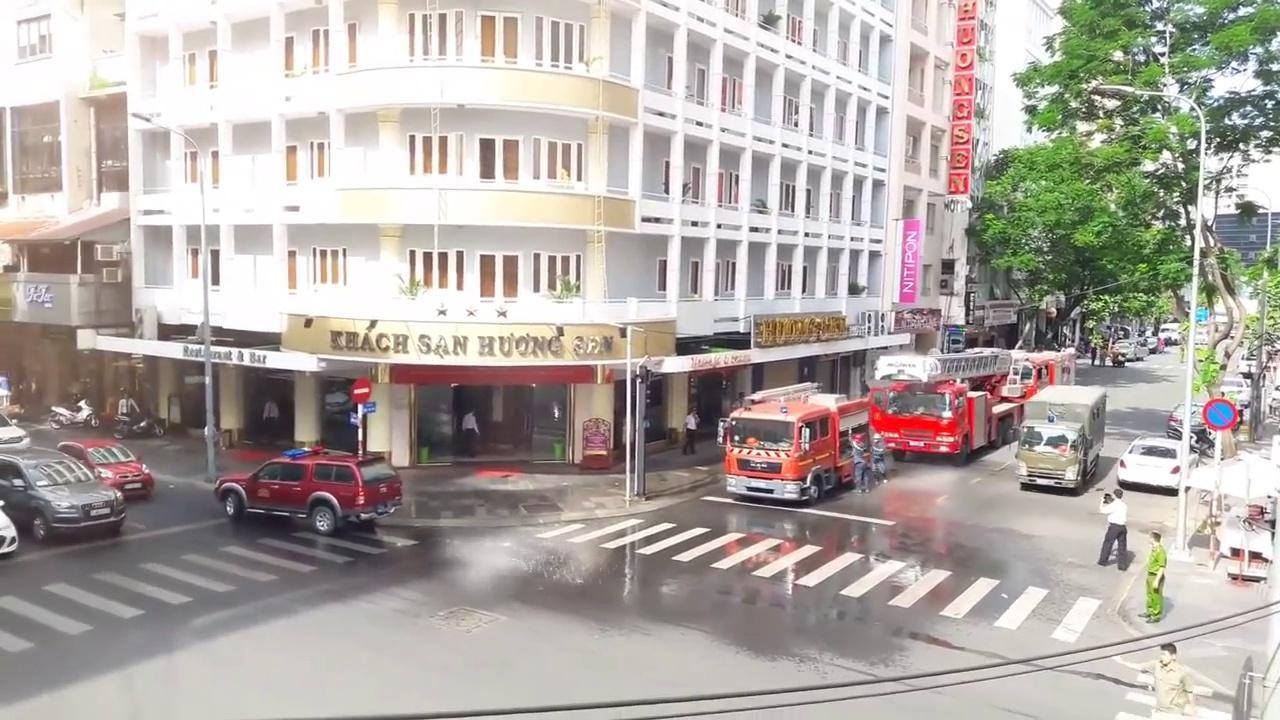xe cuu hoa: (722, 381, 868, 506), (871, 346, 1021, 465)
xe hoi: (214, 445, 401, 534), (0, 443, 125, 540), (55, 438, 153, 495), (1116, 434, 1181, 488)
xe tai: (1015, 382, 1105, 489)
